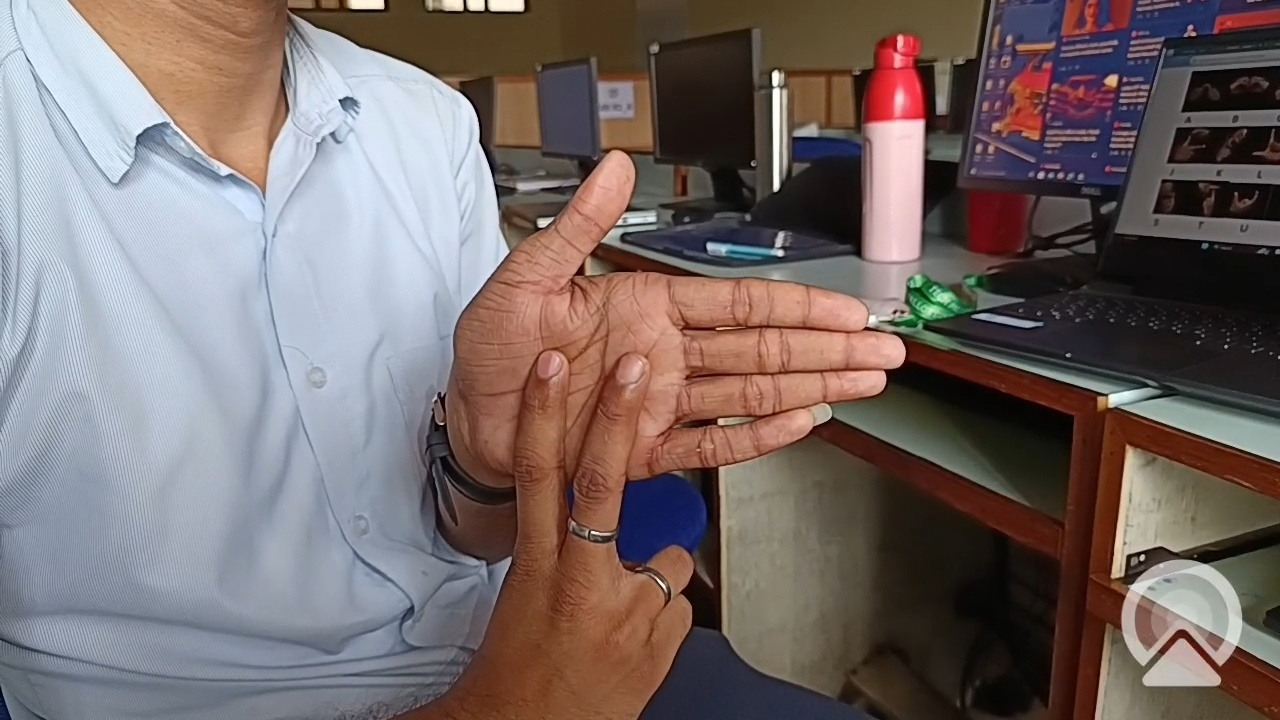N: (390, 113, 903, 720)
